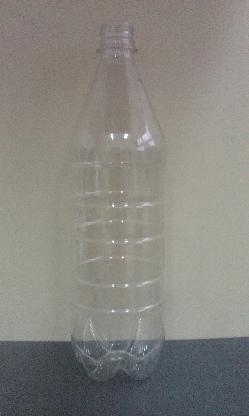Plastic Bottle: (66, 21, 168, 381)
